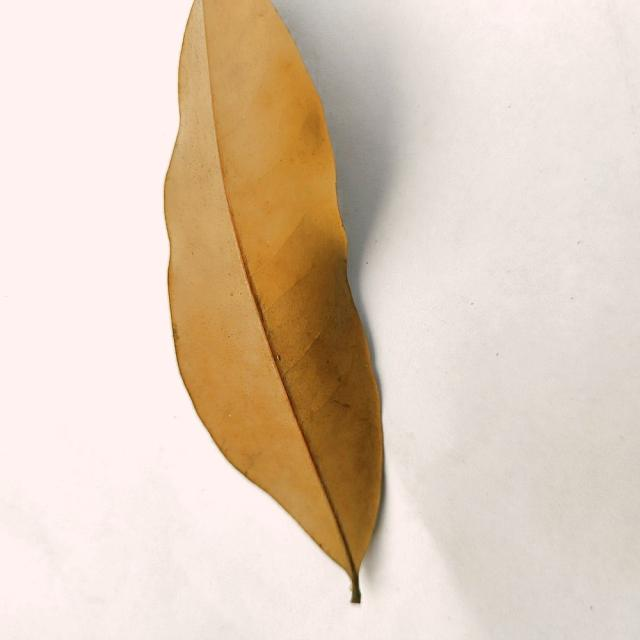Dry_Leaf-Lychee: (163, 0, 387, 606)
